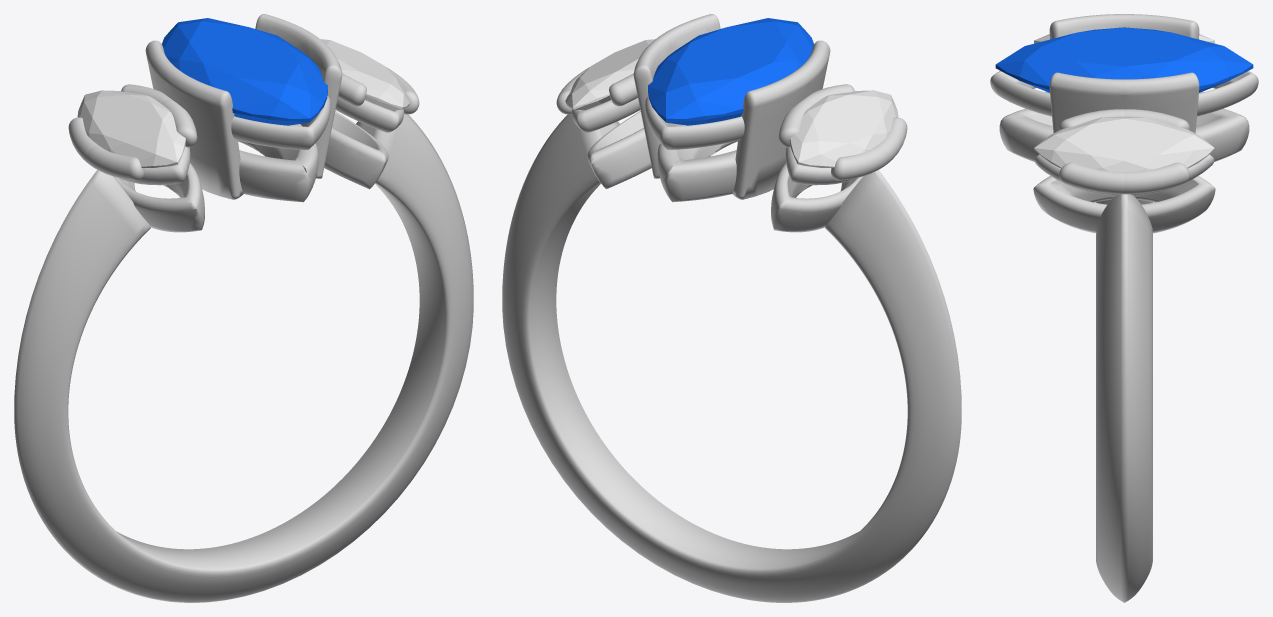
Rendered from bluesapphire-marquise-platinum-halfmoonbezel-knifeedge-3stone.glb.
3 renders of one model, left to right at view 1: azimuth 30°, elevation 25°; view 2: azimuth 150°, elevation 25°; view 3: azimuth 270°, elevation 25°, orthographic. The views are drawn at different scales.
Visible parts, largest first — view 1: metal.003, stone.002, side.004, side.005; view 2: metal.003, stone.002, side.004, side.005; view 3: metal.003, stone.002, side.005.
Part boxes in pixels (<box>): metal.003: <box>14,14,473,602</box>; stone.002: <box>162,18,327,125</box>; side.004: <box>77,90,185,167</box>; side.005: <box>320,39,410,110</box>; metal.003: <box>502,14,961,602</box>; stone.002: <box>648,18,813,125</box>; side.004: <box>790,90,898,167</box>; side.005: <box>565,39,655,110</box>; metal.003: <box>990,14,1258,602</box>; stone.002: <box>995,27,1253,92</box>; side.005: <box>1034,116,1214,171</box>.
Bounding box in the file's own units: 20.1 × 22.73 × 10.4.
